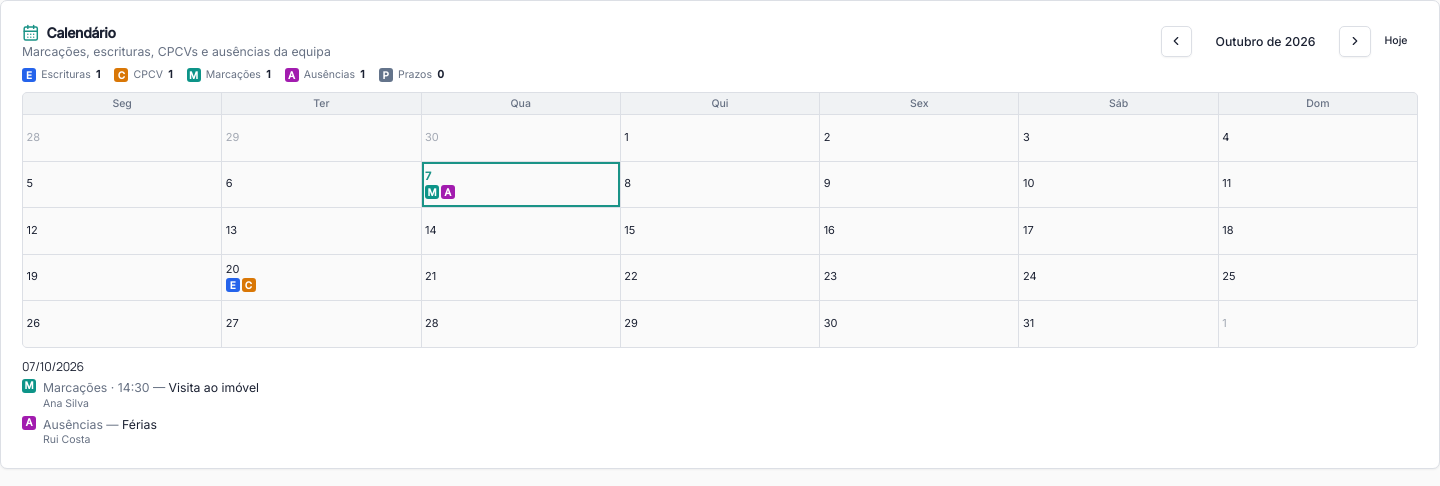
Test: navegar entre meses › «Hoje» volta ao mês actual com hoje seleccionado
The width and height of the screenshot is (1440, 486).
Expected: the element with test id "itens-do-dia" is shown, left=22, top=358, right=259, bottom=446
Click the button named "Mês anterior" at (1176, 41), box left=1160, top=26, right=1192, bottom=57
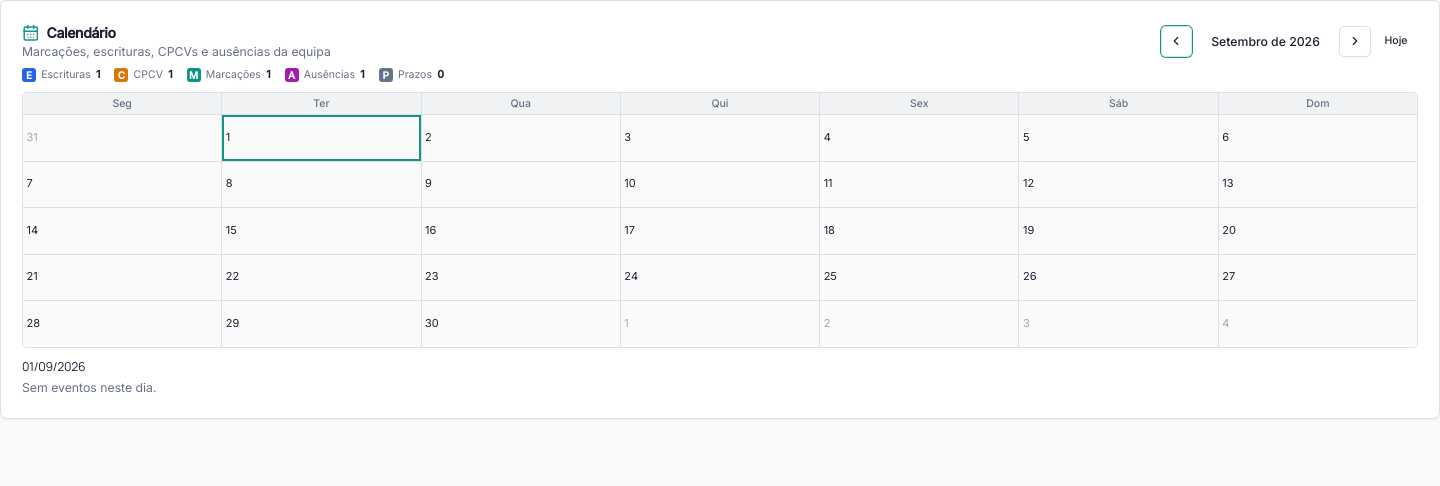
Click the button "Hoje" at (1396, 41), box left=1374, top=27, right=1418, bottom=55
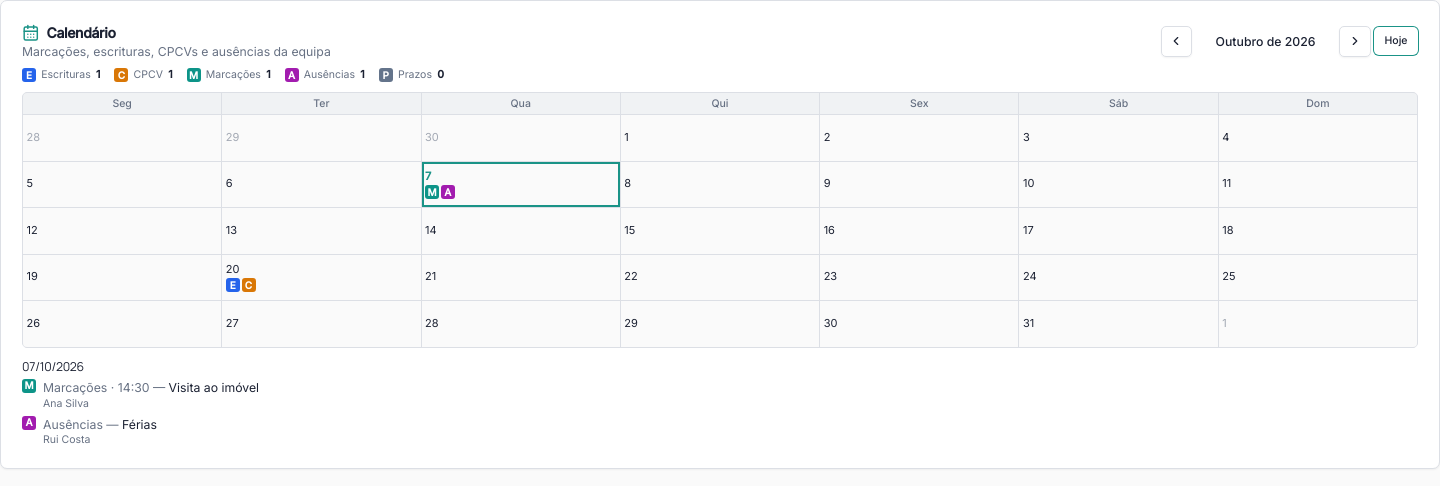
Now the text with test id "mes-do-calendario" reads "Outubro de 2026", box left=1216, top=34, right=1315, bottom=48
